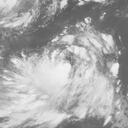cyclone: (16, 31, 110, 112)
